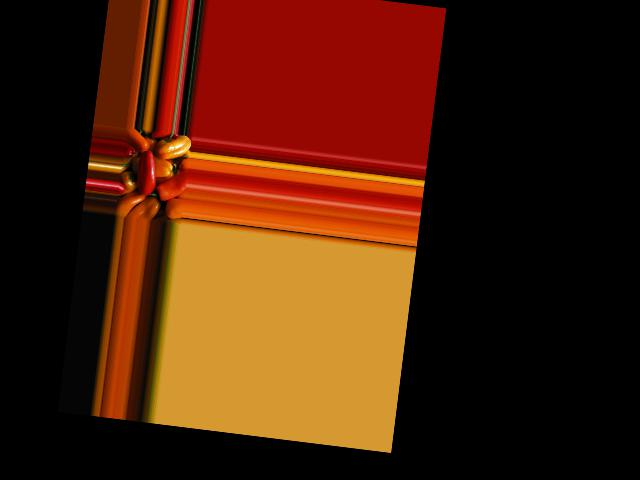bell_pepper: (157, 131, 191, 163)
